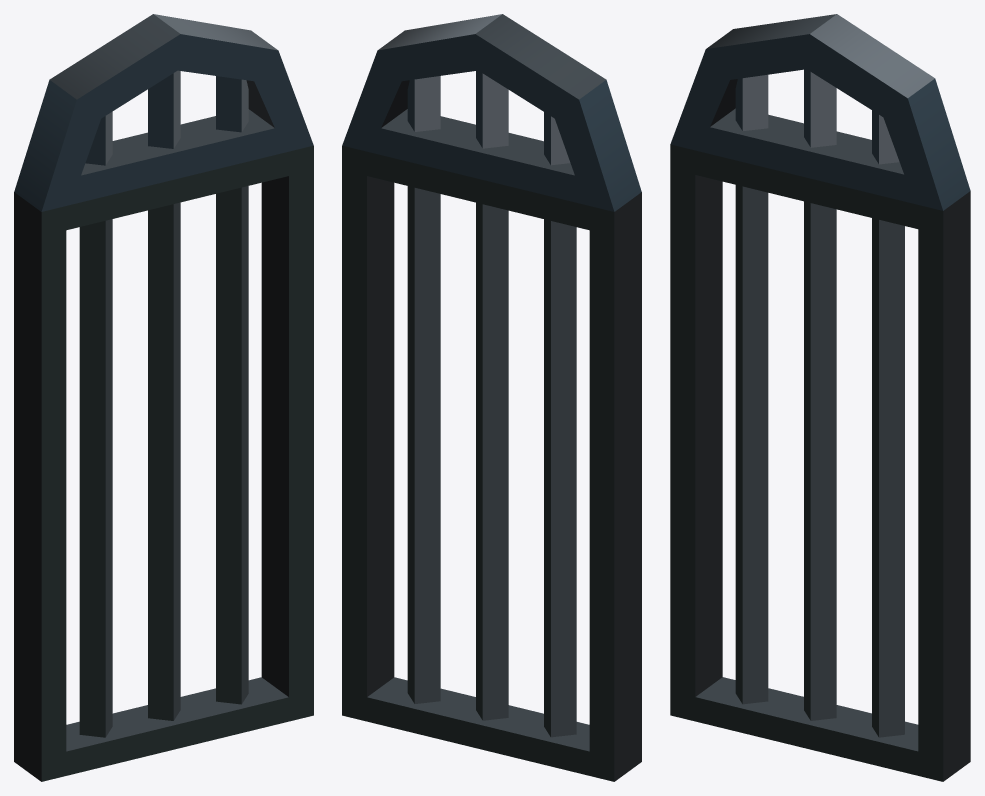
Rendered from jail_bars_arch.fbx.
The picture shows the model from 3 angles, left to right: view 1: azimuth 30°, elevation 25°; view 2: azimuth 150°, elevation 25°; view 3: azimuth 330°, elevation 25°; orthographic projection.
Parts seen in each view (by area): view 1: jail_bars_arch; view 2: jail_bars_arch; view 3: jail_bars_arch.
Boxes of the visible parts, x1,y1,x2,y2 form: jail_bars_arch: (14,14,313,781); jail_bars_arch: (342,14,641,781); jail_bars_arch: (670,14,970,781).
Bounding box in the file's own units: 100 × 251 × 17.42.
